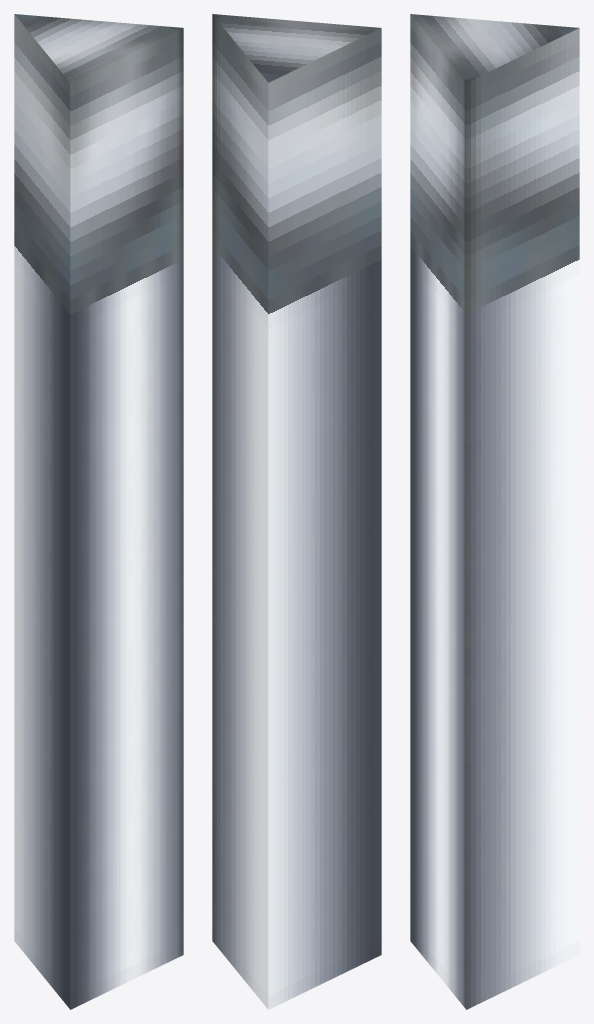
3 renders of one model, left to right at view 1: azimuth 30°, elevation 25°; view 2: azimuth 150°, elevation 25°; view 3: azimuth 270°, elevation 25°, orthographic.
Parts seen in each view (by area): view 1: Cylinder22; view 2: Cylinder22; view 3: Cylinder22.
Boxes of the visible parts, box(x1,y1,x2,y2) form: Cylinder22: box(14, 14, 183, 1009); Cylinder22: box(212, 14, 381, 1009); Cylinder22: box(410, 14, 579, 1009).
Bounding box in the file's own units: 23.88 × 150 × 24.79.
Materials: 1 (1 with a texture image).
